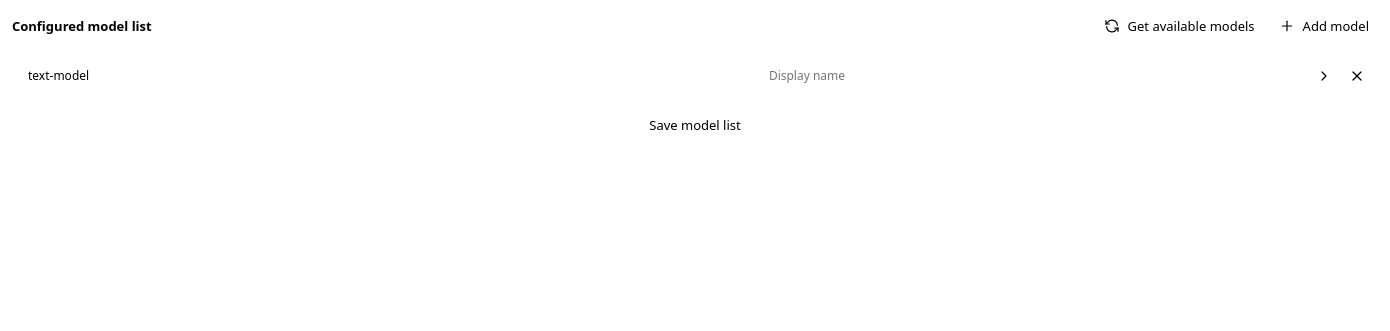
it: ModelListEditor state notifications › does not let the user clear the last explicitly selected input type
The width and height of the screenshot is (1390, 331).
Click the button named "Advanced model settings" at (1324, 76), box 1310,60 -> 1338,92
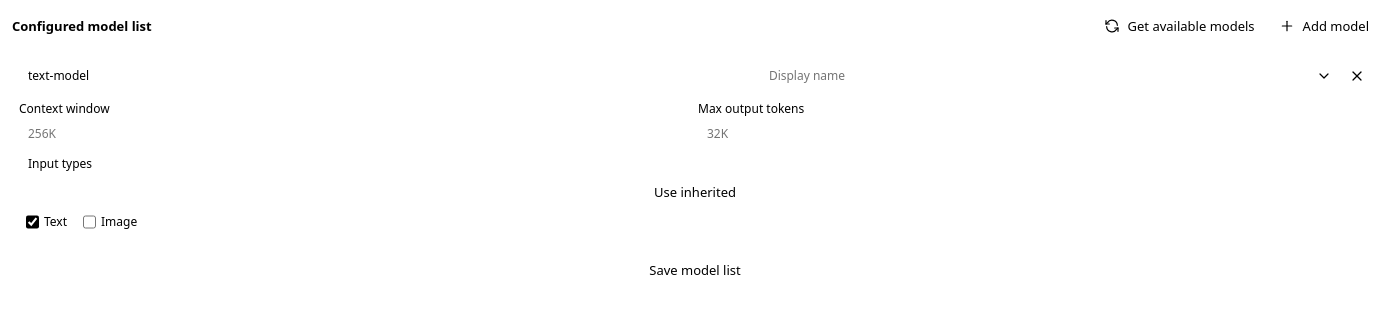
Click the checkbox labelled "Text" at (32, 222), box 26,214 -> 39,230
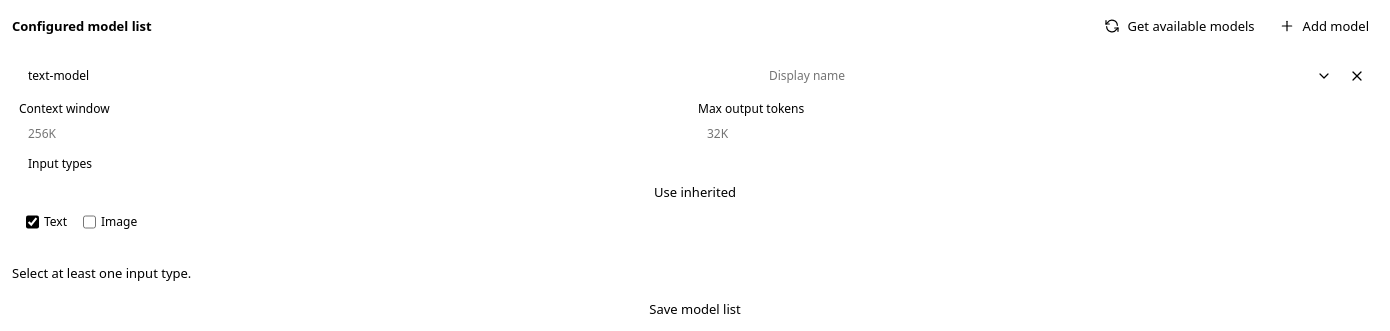
Check: the checkbox labelled "Text" is checked, box 26,214 -> 39,230
Check: the message reads "Select at least one input type.", box 12,264 -> 191,282
